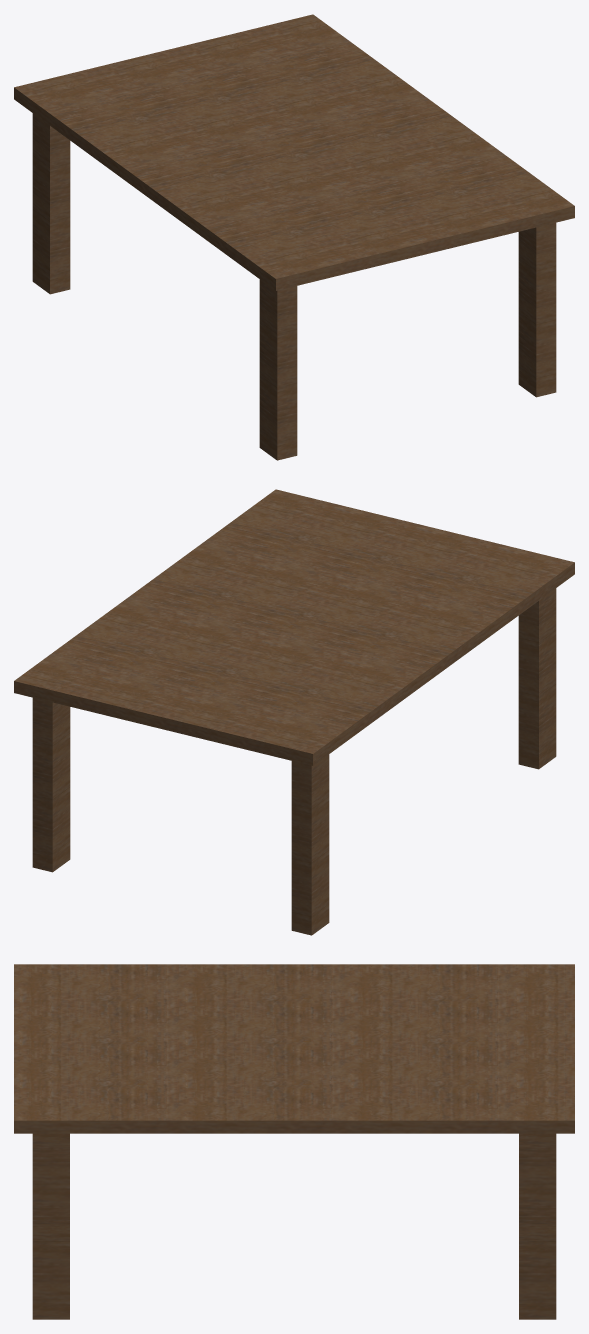
File: Mesa.fbx
3 renders of one model, top to bottom at view 1: azimuth 30°, elevation 25°; view 2: azimuth 150°, elevation 25°; view 3: azimuth 270°, elevation 25°, orthographic. The views are drawn at different scales.
Visible parts, largest first — view 1: Mesa; view 2: Mesa; view 3: Mesa.
Boxes of the visible parts, x1,y1,x2,y2 form: Mesa: [14, 14, 574, 460]; Mesa: [14, 489, 574, 935]; Mesa: [14, 964, 574, 1319].
Bounding box in the file's own units: 98.93 × 60.18 × 150.
1 material, 1 textured.
